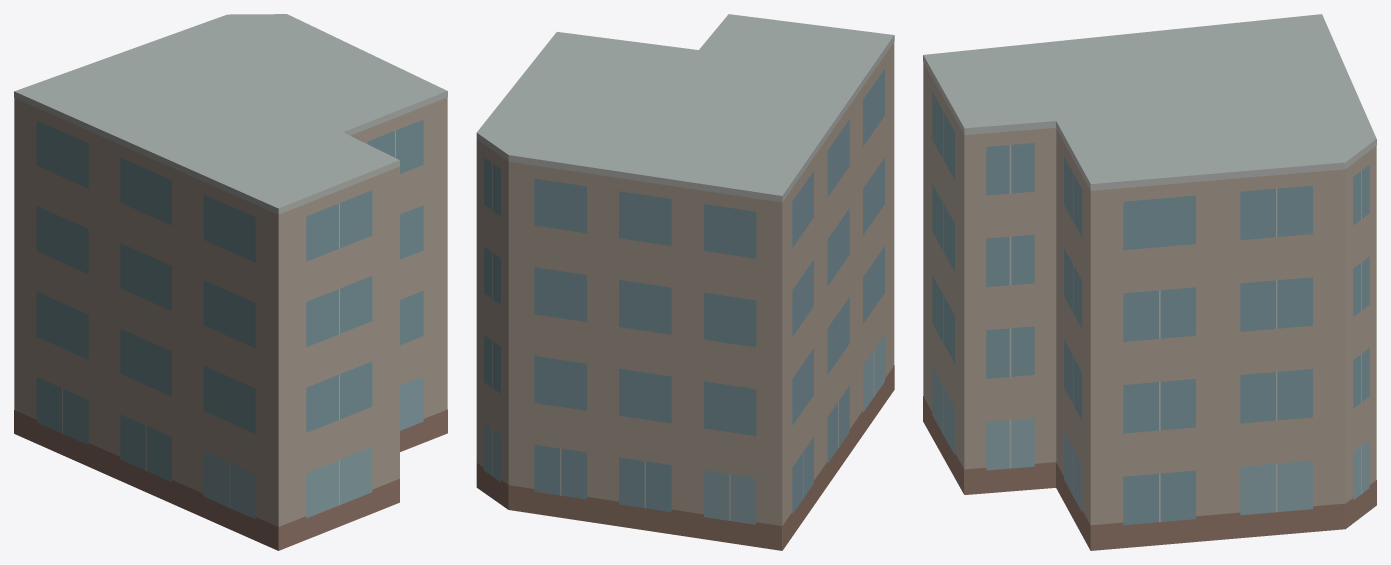
The model's file is survey-upis-32584028.glb.
The picture shows the model from 3 angles, left to right: view 1: azimuth 30°, elevation 25°; view 2: azimuth 150°, elevation 25°; view 3: azimuth 270°, elevation 25°; orthographic projection. The views are drawn at different scales.
Visible parts, largest first — view 1: survey-upis-32584028.tmp; view 2: survey-upis-32584028.tmp; view 3: survey-upis-32584028.tmp.
Part boxes in pixels (x1,y1,x2,y2): survey-upis-32584028.tmp: (14,14,447,550); survey-upis-32584028.tmp: (476,14,894,550); survey-upis-32584028.tmp: (923,14,1376,550).
Size of the model in its own units: 13.22 by 13.27 by 14.88.
